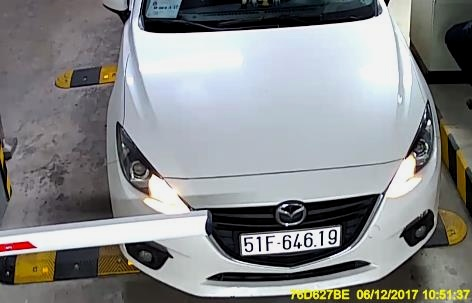plate: (237, 224, 343, 254)
